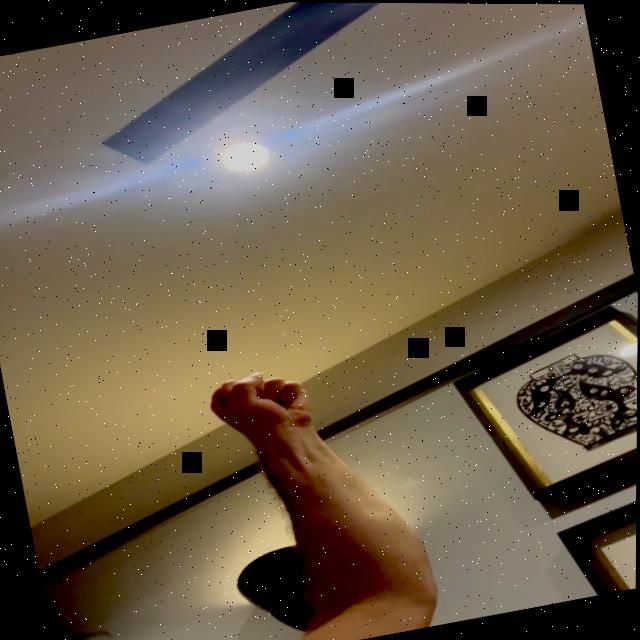Rock: (204, 362, 319, 441)
